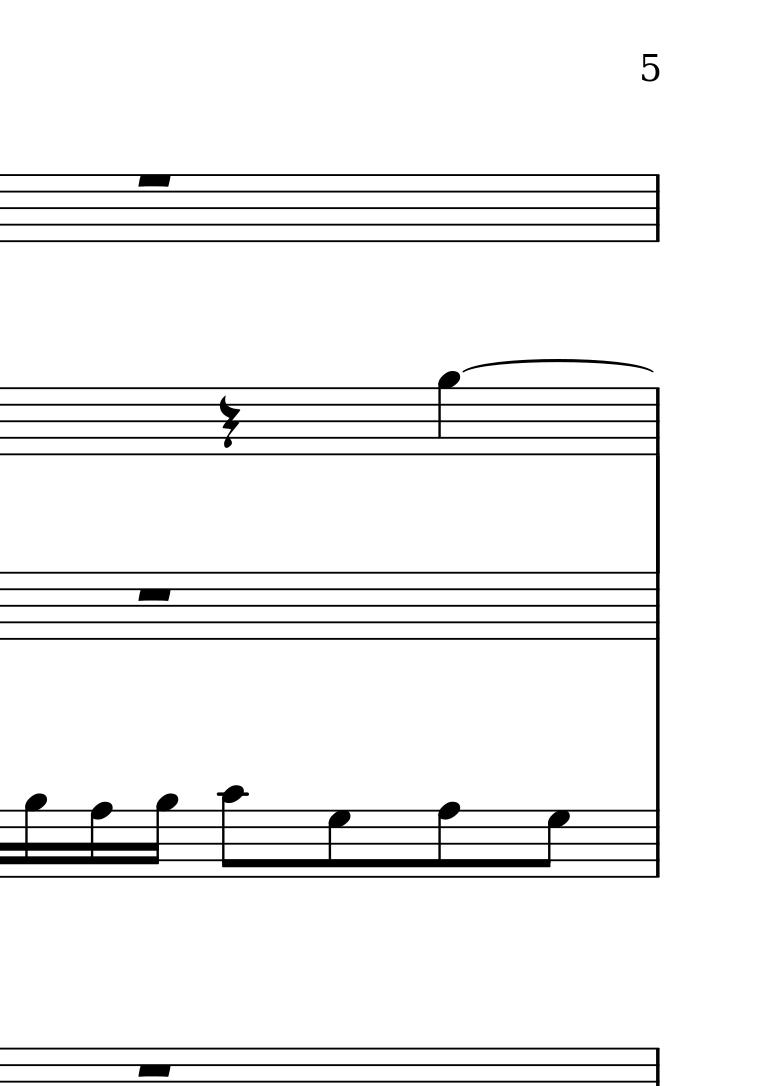16_8: (87, 800, 114, 882)
16_9: (143, 790, 177, 882), (22, 788, 47, 884)
4_9: (436, 368, 460, 458)
5: (640, 50, 663, 84)
8_10: (219, 784, 246, 880)
8_7: (535, 808, 570, 878), (325, 809, 353, 879)
8_8: (435, 800, 461, 880)
Rests1: (134, 1059, 175, 1081), (133, 171, 175, 191), (134, 584, 175, 604)
Rests4: (217, 394, 241, 452)
Single_barline: (648, 174, 667, 241), (648, 810, 666, 877), (648, 573, 666, 639), (649, 388, 666, 456)
Slur: (464, 355, 655, 370)
